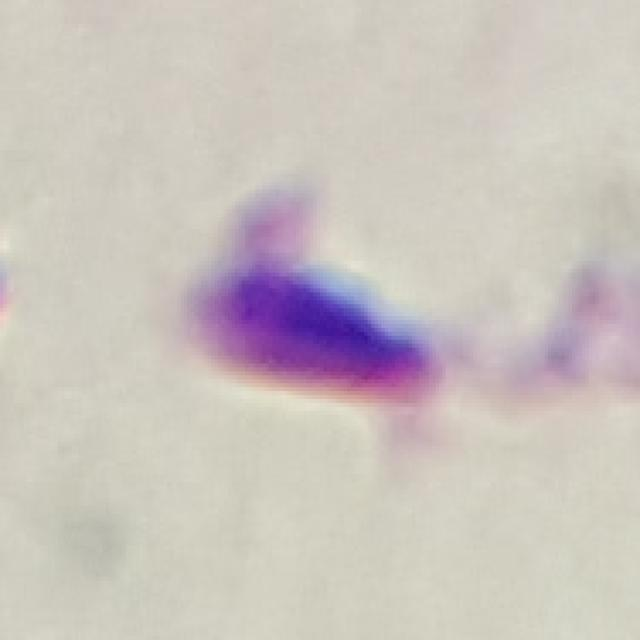non-sperm: (179, 234, 463, 436)
